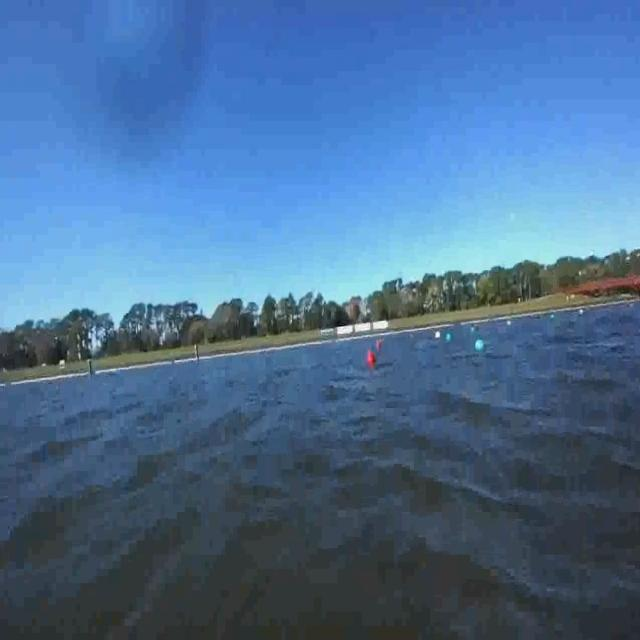green-buoy: (475, 339, 487, 353)
red-buoy: (366, 350, 375, 370)
